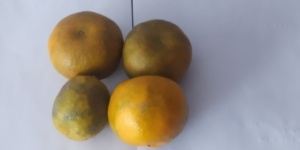BAD: (105, 75, 189, 150), (46, 12, 123, 79), (123, 18, 193, 83), (50, 76, 109, 143)
